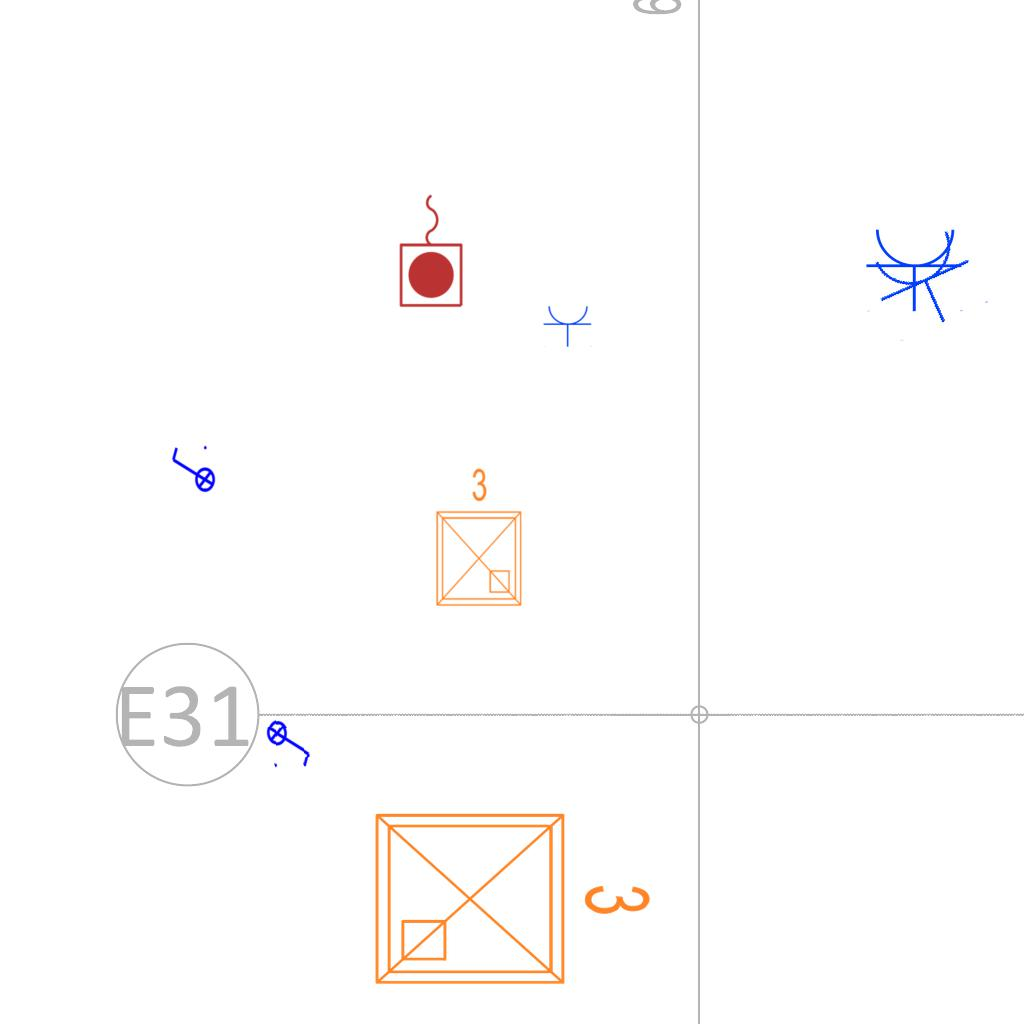Ausschalter_beleuchtet: (265, 713, 315, 771), (168, 443, 216, 499)
Einbaudownlights_LED_Konferenzraeume: (361, 791, 661, 999), (425, 463, 529, 613)
Schukosteckdose_einfach: (863, 222, 991, 343), (865, 225, 965, 312), (543, 304, 593, 347)
Zugtaster: (396, 189, 468, 311)
